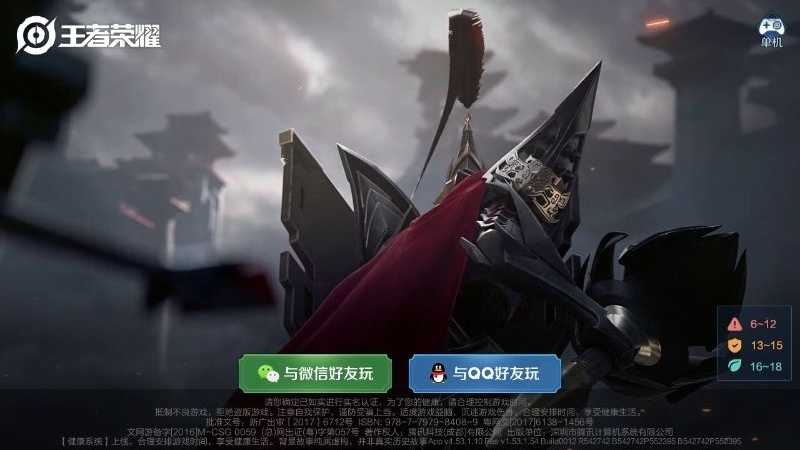obj_2461529398968: (246, 355, 384, 389)
qq: (416, 356, 552, 389)
